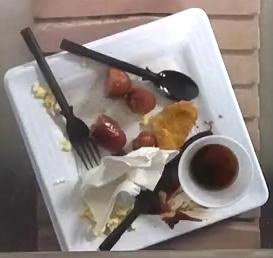hash: (150, 101, 197, 149)
sausage: (104, 68, 155, 114), (90, 115, 127, 155), (132, 130, 159, 150)
